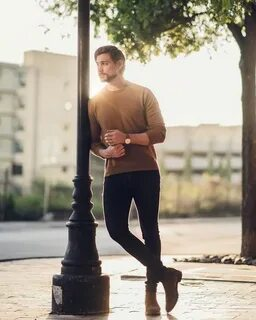awake: (87, 45, 183, 315)
